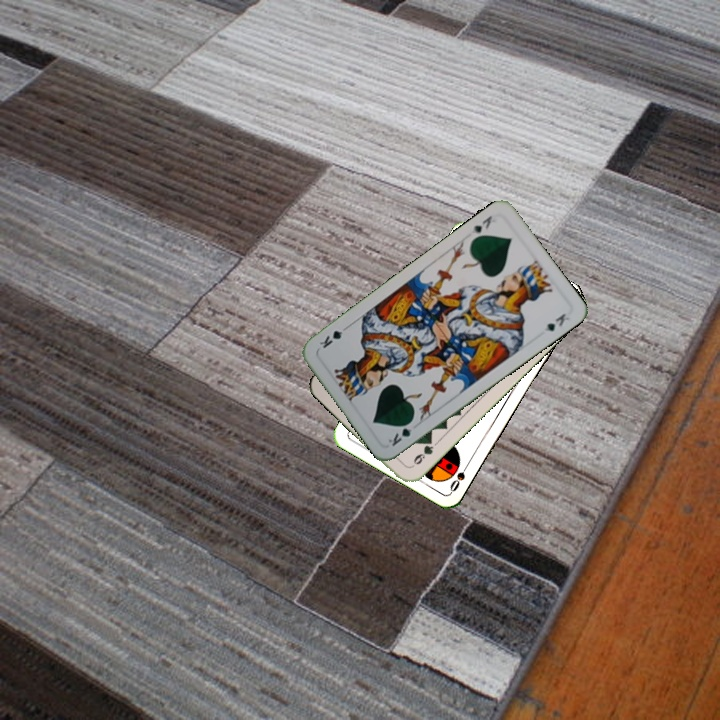G9: (407, 435, 437, 470)
GK: (384, 416, 417, 449), (467, 211, 499, 236)
SO: (446, 458, 473, 495)
